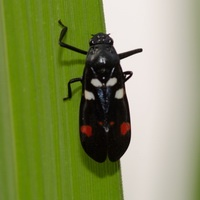insect: (58, 20, 141, 161)
